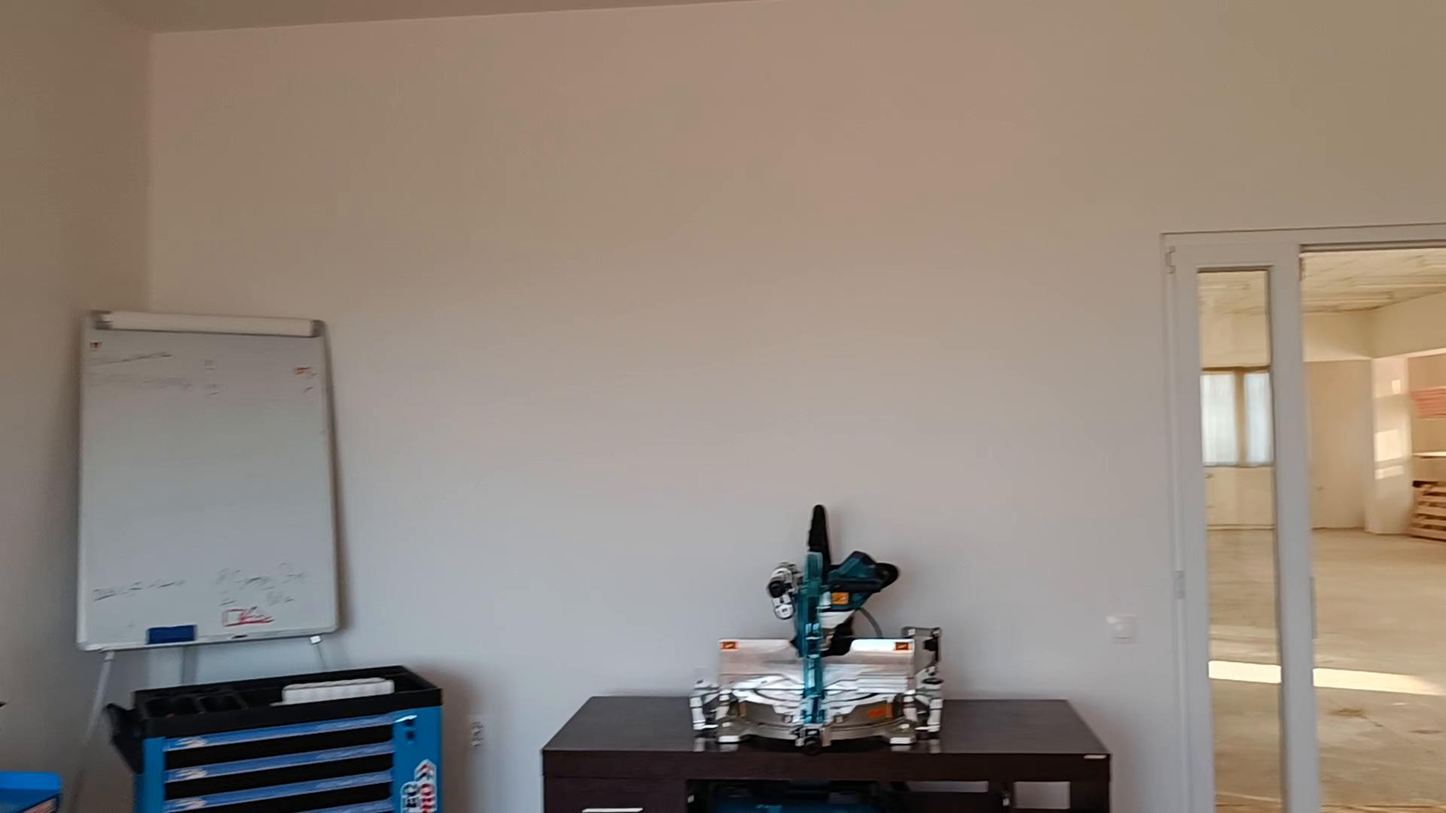ceiling: (1301, 247, 1445, 362)
floor: (1313, 531, 1445, 812), (1209, 531, 1281, 812)
wall: (0, 0, 1445, 811)
